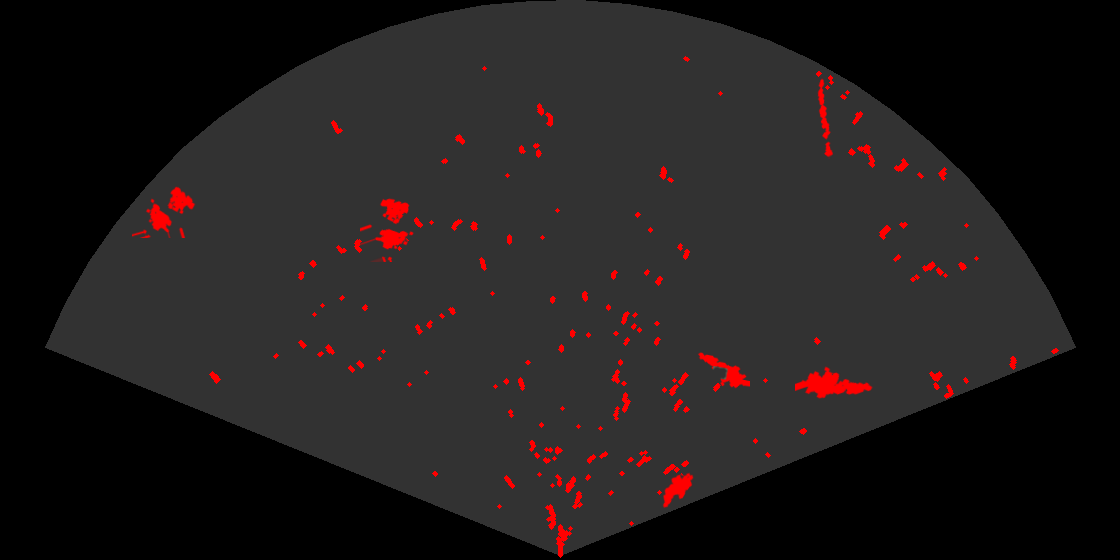AUV: (661, 471, 695, 510)
cage: (360, 197, 415, 262), (132, 185, 197, 238)
chain: (816, 77, 835, 159)
frogman: (795, 365, 874, 400), (696, 351, 750, 390)
